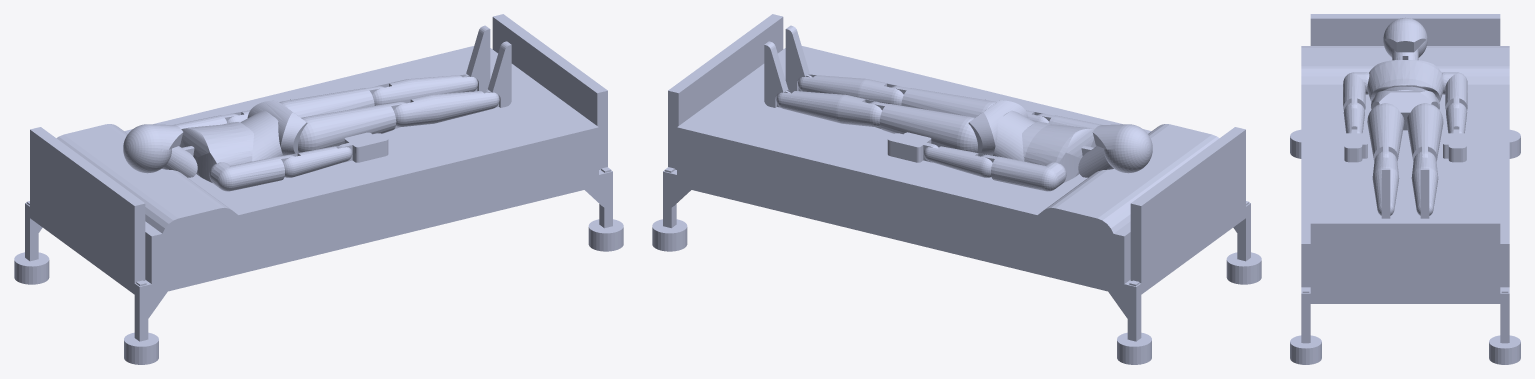
Rendered from bed_and_body.rounded.dae.
3 views of the same model, side by side, from view 1: azimuth 30°, elevation 25°; view 2: azimuth 150°, elevation 25°; view 3: azimuth 270°, elevation 25° (orthographic). The views are drawn at different scales.
Parts seen in each view (by area): view 1: bed_frame_link, leg_rest_lower, head_rest_link, leg_rest_upper, base_link, quad_right_link, upper_body_link, calf_right_link, head_link, calf_left_link, arm_right_link, quad_left_link (+7 smaller); view 2: bed_frame_link, leg_rest_lower, head_rest_link, leg_rest_upper, base_link, quad_left_link, upper_body_link, calf_left_link, head_link, calf_right_link, arm_left_link, quad_right_link (+8 smaller); view 3: bed_frame_link, leg_rest_lower, head_rest_link, leg_rest_upper, base_link, upper_body_link, quad_left_link, quad_right_link, head_link, calf_right_link, calf_left_link, lower_body_link (+10 smaller).
Boxes of the visible parts, bbox=[...] form: bed_frame_link: bbox=[25, 14, 612, 341]; leg_rest_lower: bbox=[335, 46, 598, 211]; head_rest_link: bbox=[56, 114, 307, 283]; leg_rest_upper: bbox=[254, 80, 448, 230]; base_link: bbox=[14, 167, 623, 364]; quad_right_link: bbox=[298, 102, 406, 152]; upper_body_link: bbox=[179, 122, 253, 182]; calf_right_link: bbox=[393, 90, 499, 126]; head_link: bbox=[123, 124, 183, 173]; calf_left_link: bbox=[372, 74, 477, 105]; arm_right_link: bbox=[209, 155, 294, 191]; quad_left_link: bbox=[279, 86, 384, 117]; bed_frame_link: bbox=[663, 14, 1250, 341]; leg_rest_lower: bbox=[677, 46, 940, 211]; head_rest_link: bbox=[968, 114, 1219, 283]; leg_rest_upper: bbox=[827, 80, 1021, 230]; base_link: bbox=[652, 167, 1261, 364]; quad_left_link: bbox=[870, 101, 977, 152]; upper_body_link: bbox=[1022, 122, 1096, 182]; calf_left_link: bbox=[776, 90, 882, 126]; head_link: bbox=[1092, 124, 1152, 173]; calf_right_link: bbox=[798, 74, 903, 105]; arm_left_link: bbox=[981, 155, 1066, 191]; quad_right_link: bbox=[891, 86, 996, 117]; bed_frame_link: bbox=[1301, 14, 1509, 342]; leg_rest_lower: bbox=[1301, 177, 1509, 287]; head_rest_link: bbox=[1301, 46, 1509, 115]; leg_rest_upper: bbox=[1301, 142, 1509, 177]; base_link: bbox=[1290, 129, 1520, 364]; upper_body_link: bbox=[1367, 60, 1443, 102]; quad_left_link: bbox=[1406, 103, 1443, 161]; quad_right_link: bbox=[1367, 103, 1404, 160]; head_link: bbox=[1383, 17, 1427, 57]; calf_right_link: bbox=[1372, 151, 1399, 215]; calf_left_link: bbox=[1411, 151, 1438, 215]; lower_body_link: bbox=[1379, 91, 1438, 130].
Size of the model in its own units: 2.28 by 1.01 by 0.7998.
